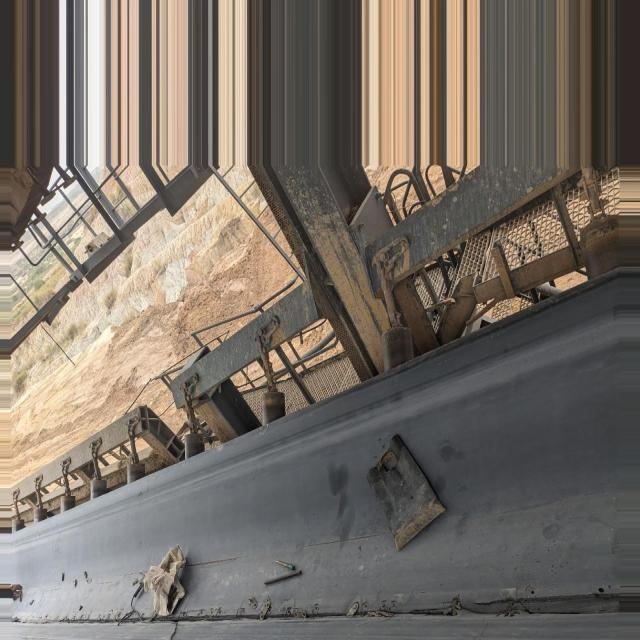Other Objects: (365, 434, 446, 553), (141, 544, 187, 619), (262, 558, 302, 586)
Roller: (12, 431, 205, 534), (381, 327, 415, 370), (262, 389, 289, 425)
Tear: (27, 586, 619, 632)
